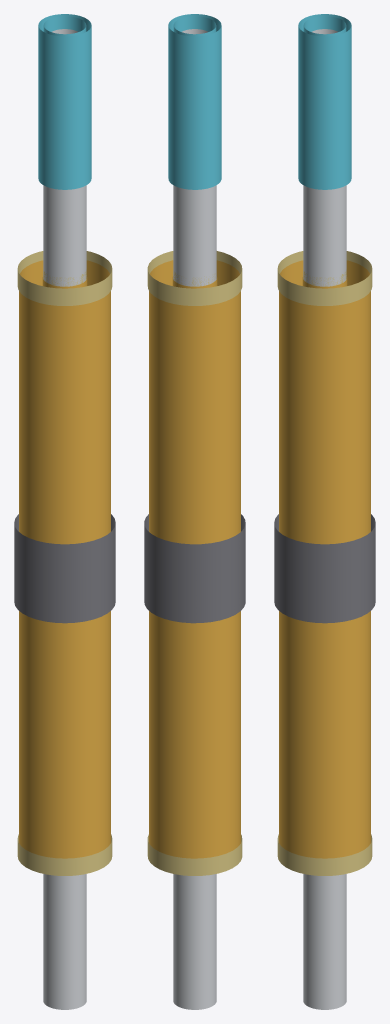
The model's file is preview.glb.
The picture shows the model from 3 angles, left to right: view 1: azimuth 90°, elevation 25°; view 2: azimuth 210°, elevation 25°; view 3: azimuth 270°, elevation 25°; orthographic projection.
Parts seen in each view (by area): view 1: Sodium_Acetate_Straw_Assembly; view 2: Sodium_Acetate_Straw_Assembly; view 3: Sodium_Acetate_Straw_Assembly.
Part boxes in pixels (bbox=[...]): Sodium_Acetate_Straw_Assembly: bbox=[14, 14, 115, 1009]; Sodium_Acetate_Straw_Assembly: bbox=[144, 14, 245, 1009]; Sodium_Acetate_Straw_Assembly: bbox=[274, 14, 375, 1009].
Bounding box in the file's own units: 0.21 × 2.23 × 0.21.
